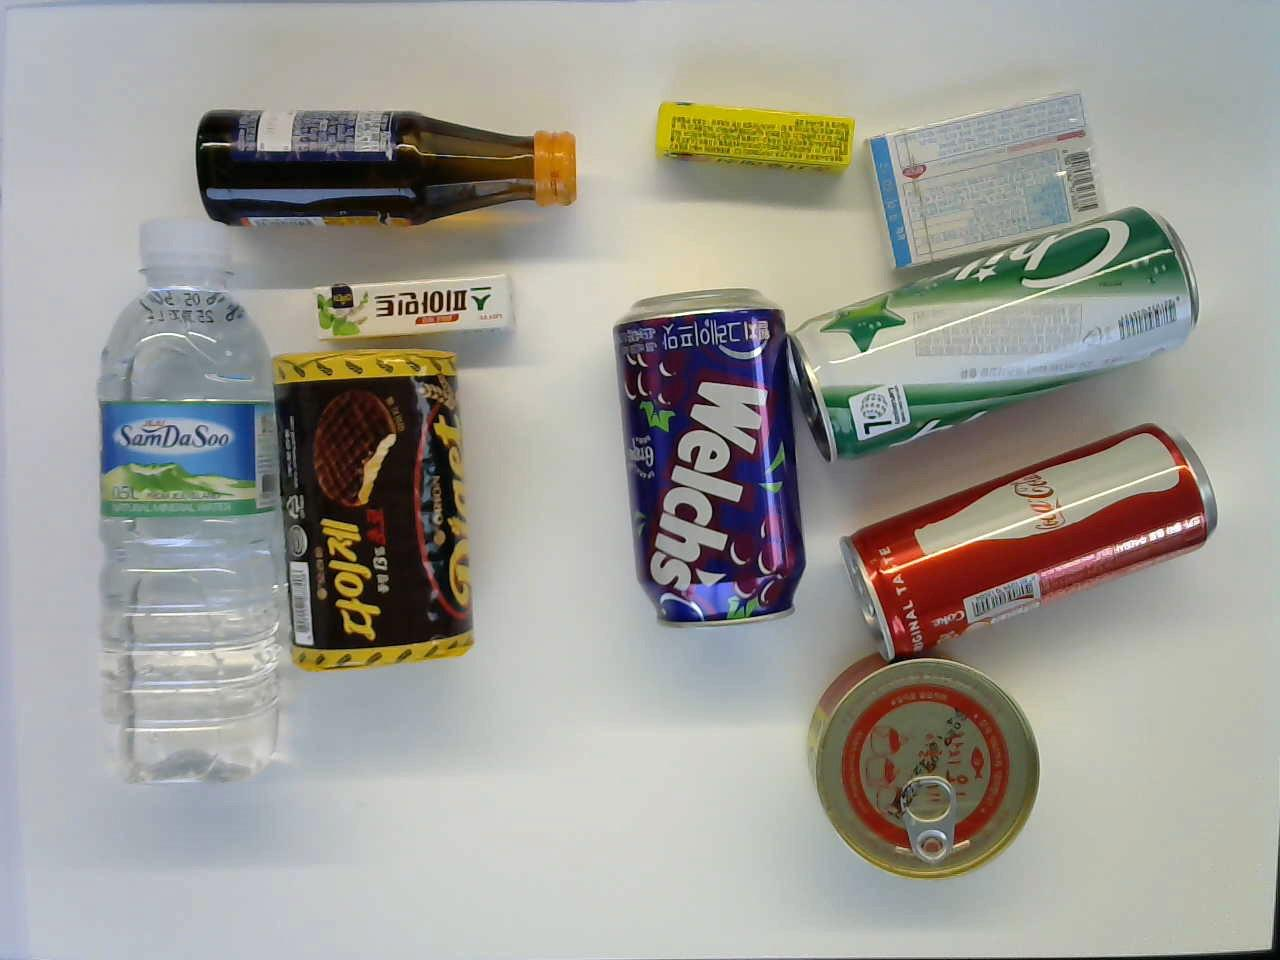ID_gum: (861, 86, 1107, 277)
cidar: (783, 205, 1206, 461)
coke: (834, 418, 1219, 667)
diget_choco: (256, 350, 476, 672)
juicyfresh: (643, 94, 858, 178)
samdasu: (81, 211, 301, 794)
spearmint: (305, 265, 518, 344)
tuna: (799, 645, 1043, 886)
vita500: (191, 107, 585, 228)
welchs: (610, 276, 805, 640)
